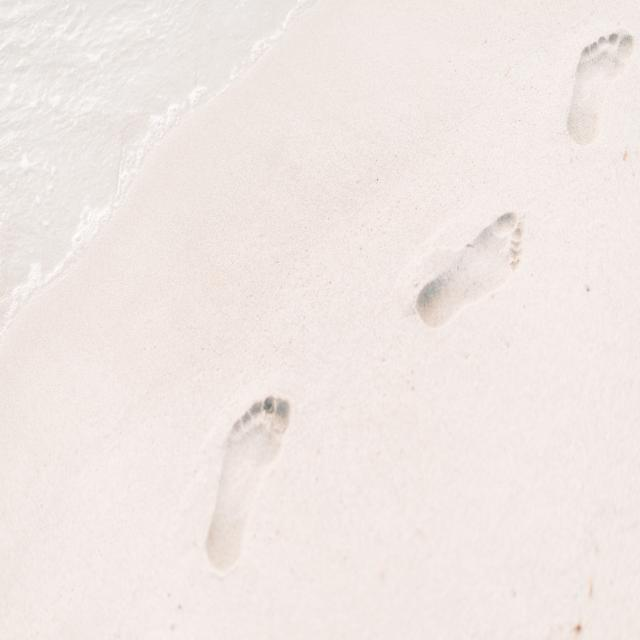human_footprint: (144, 162, 586, 597)
